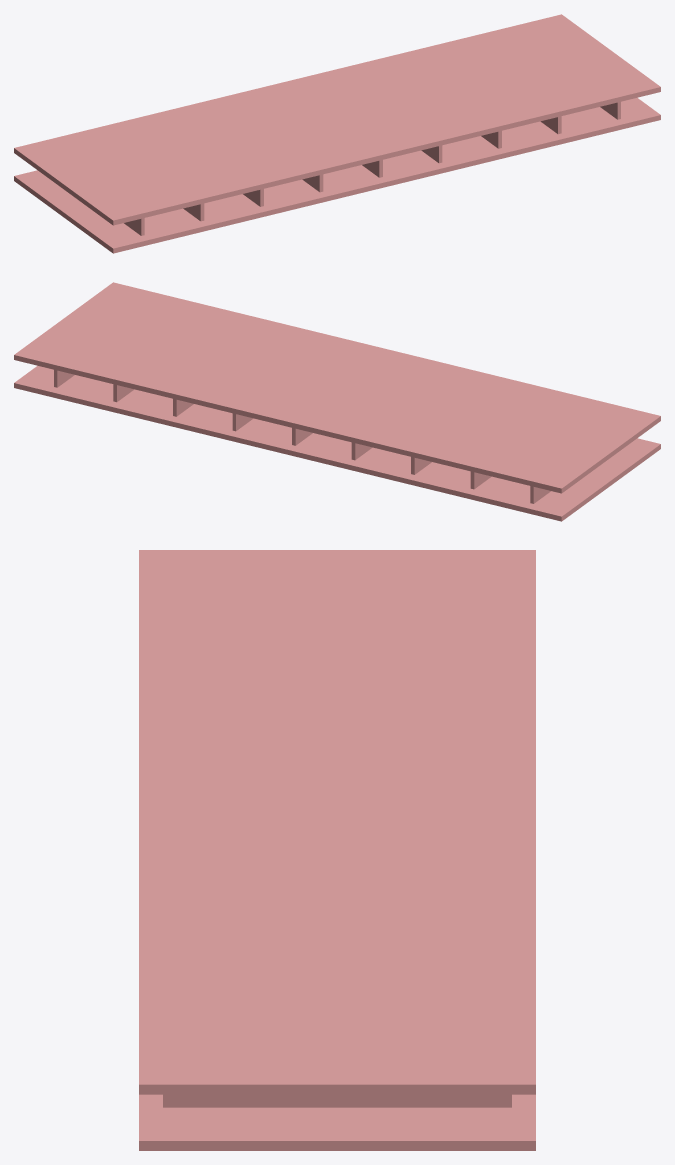
The model's file is mesh_Bridge.fbx.
The picture shows the model from 3 angles, top to bottom: view 1: azimuth 30°, elevation 25°; view 2: azimuth 150°, elevation 25°; view 3: azimuth 270°, elevation 25°; orthographic projection. The views are drawn at different scales.
Visible parts, largest first — view 1: Bridge; view 2: Bridge; view 3: Bridge.
Part boxes in pixels (x1,y1,x2,y2): Bridge: [14, 14, 660, 253]; Bridge: [14, 282, 660, 521]; Bridge: [139, 550, 535, 1150].
Bounding box in the file's own units: 920 × 53 × 289.
